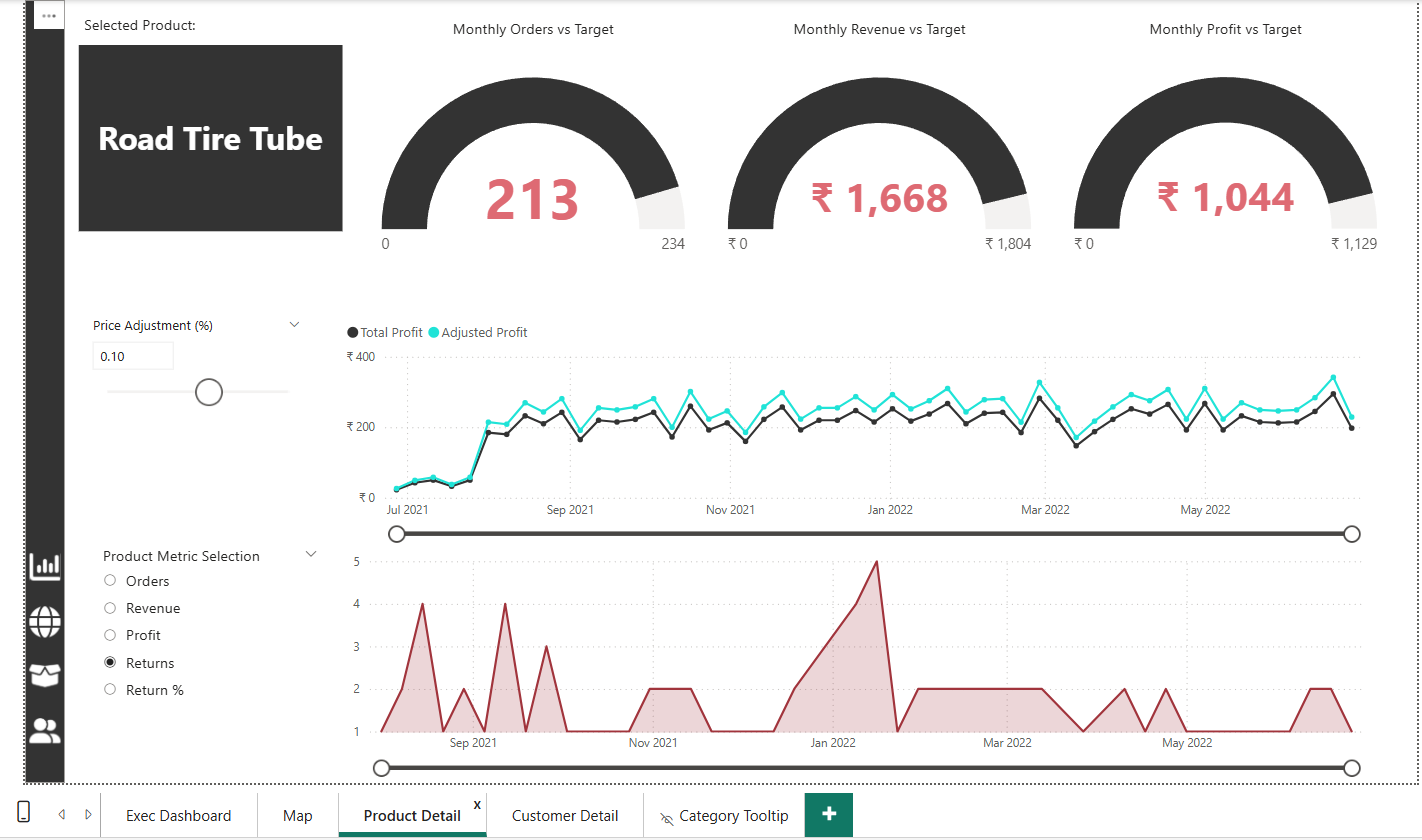

Layout of this report page (visuals, bound fields, positions):
{"tool":"powerbi","page":{"name":"Product Detail","canvas":[1280,720],"ordinal":2},"visuals":[{"type":"shape","box":[0,0,36.8,720.2],"z":0},{"type":"actionButton","box":[0,496.5,36.7,50],"z":0,"group":"g2"},{"type":"gauge","title":"Monthly Orders vs Target","fields":{"Y":["Measure Table.Total Orders"],"MaxValue":["Measure Table.Order Target"]},"box":[322.4,16.8,288.8,257.7],"z":1000},{"type":"actionButton","box":[0,596.6,36.7,50],"z":1000,"group":"g2"},{"type":"gauge","title":"Monthly Revenue vs Target","fields":{"Y":["Measure Table.Total Revenue"],"MaxValue":["Measure Table.Revenue Target"]},"box":[641.2,16.8,288.8,257.7],"z":2000},{"type":"actionButton","box":[0,646.6,36.7,50],"z":2000,"group":"g2"},{"type":"gauge","title":"Monthly Profit vs Target","fields":{"Y":["Measure Table.Total Profit"],"MaxValue":["Measure Table.Profit Target"]},"box":[959.4,17.3,288.6,256.8],"z":3000},{"type":"actionButton","box":[0,546.6,36.7,50],"z":3000,"group":"g2"},{"type":"lineChart","title":"Profit Trending","fields":{"Category":["Calendar Lookup.Date Hierarchy.Year","Calendar Lookup.Date Hierarchy.Start of Month","Calendar Lookup.Date Hierarchy.Start of Week","Calendar Lookup.Date Hierarchy.Date"],"Y":["Measure Table.Total Profit","Measure Table.Adjusted Profit"]},"box":[291.1,285.6,957.8,215.6],"z":4000},{"type":"areaChart","title":"Returns Trending","fields":{"Y":["Measure Table.Total Returns"],"Category":["Calendar Lookup.Date Hierarchy.Year","Calendar Lookup.Date Hierarchy.Start of Month","Calendar Lookup.Date Hierarchy.Start of Week","Calendar Lookup.Date Hierarchy.Date"]},"box":[291.1,502.2,957.8,214.4],"z":5000},{"type":"group","id":"g1","title":"Group 1","box":[49.1,8.4,242.1,204.9],"z":6000},{"type":"card","fields":{"Values":["Min(Product Lookup.ProductName)"]},"box":[49.1,42,242.1,171.4],"z":6000,"group":"g1"},{"type":"textbox","box":[49.1,8.4,143.8,33.6],"z":7000,"group":"g1"},{"type":"group","id":"g2","title":"Navigation Buttons","box":[0,496.5,36.7,200.1],"z":7000},{"type":"slicer","fields":{"Values":["Price Adjustment (%).Price Adjustment (%)"]},"box":[48.9,285.6,215.6,118.9],"z":8000},{"type":"slicer","fields":{"Values":["Product Metric Selection.Product Metric Selection"]},"box":[58.9,496.7,222.2,194.4],"z":9000}]}

Visuals, with their boxes on the page's 1280x720 design canvas (x1, y1, x2, y2). These are canvas units, not pixel positions in the 1422x840 screenshot, which may show the page scaled, cropped or inside an application window:
shape: <bbox>0, 0, 37, 720</bbox>
actionButton: <bbox>0, 496, 37, 546</bbox>
"Monthly Orders vs Target" gauge: <bbox>322, 17, 611, 274</bbox>
actionButton: <bbox>0, 597, 37, 647</bbox>
"Monthly Revenue vs Target" gauge: <bbox>641, 17, 930, 274</bbox>
actionButton: <bbox>0, 647, 37, 697</bbox>
"Monthly Profit vs Target" gauge: <bbox>959, 17, 1248, 274</bbox>
actionButton: <bbox>0, 547, 37, 597</bbox>
"Profit Trending" lineChart: <bbox>291, 286, 1249, 501</bbox>
"Returns Trending" areaChart: <bbox>291, 502, 1249, 717</bbox>
"Group 1" group: <bbox>49, 8, 291, 213</bbox>
card - Min(Product Lookup.ProductName): <bbox>49, 42, 291, 213</bbox>
textbox: <bbox>49, 8, 193, 42</bbox>
"Navigation Buttons" group: <bbox>0, 496, 37, 697</bbox>
slicer - Price Adjustment (%).Price Adjustment (%): <bbox>49, 286, 264, 404</bbox>
slicer - Product Metric Selection.Product Metric Selection: <bbox>59, 497, 281, 691</bbox>
